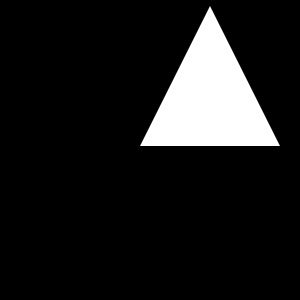triangle: (140, 6, 280, 146)
